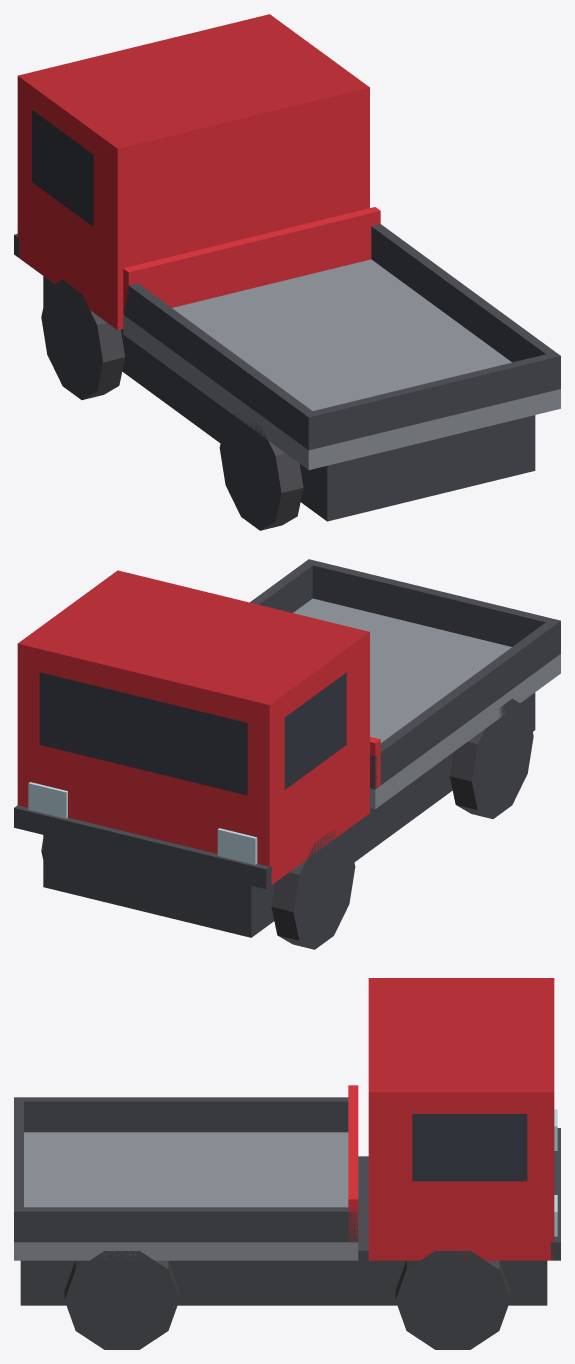
Rendered from truck.glb.
The picture shows the model from 3 angles, top to bottom: view 1: azimuth 30°, elevation 25°; view 2: azimuth 150°, elevation 25°; view 3: azimuth 270°, elevation 25°; orthographic projection. The views are drawn at different scales.
Parts seen in each view (by area): view 1: truck; view 2: truck; view 3: truck.
Boxes of the visible parts, left/top/right/bottom form: truck: left=14, top=14, right=560, bottom=530; truck: left=14, top=559, right=560, bottom=949; truck: left=14, top=978, right=560, bottom=1349.
Size of the model in its own units: 0.802 by 0.8417 by 1.62.
